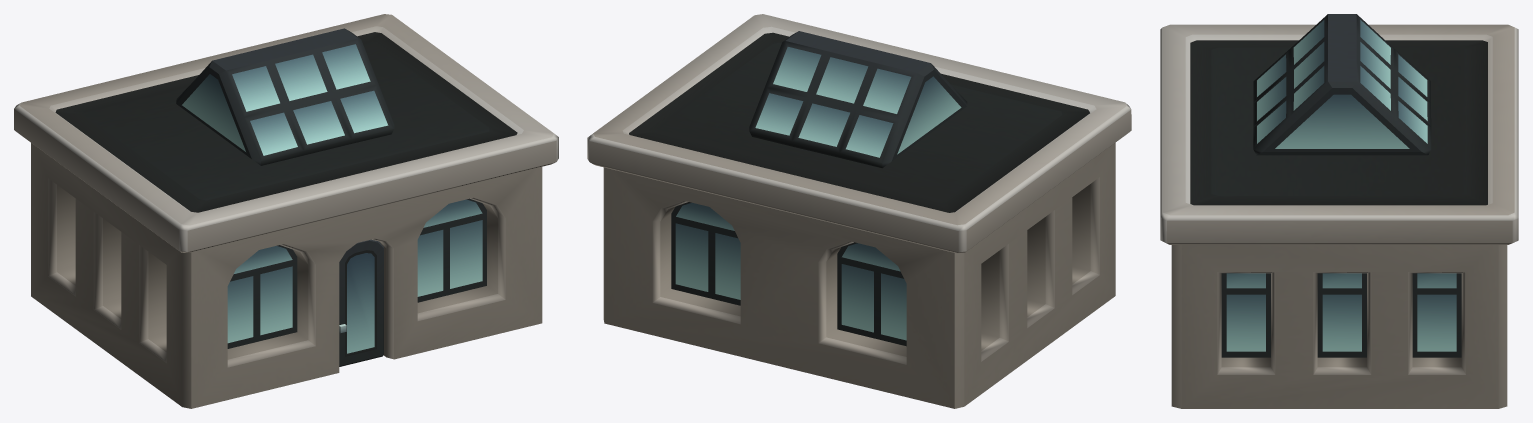
Rendered from office_building_type1_rooftop_floor_cream.fbx.
The picture shows the model from 3 angles, left to right: view 1: azimuth 30°, elevation 25°; view 2: azimuth 150°, elevation 25°; view 3: azimuth 270°, elevation 25°; orthographic projection. The views are drawn at different scales.
Visible parts, largest first — view 1: office_building_type1_rooftop_floor_cream, door_office_building_type1_rooftop_floor_cream; view 2: office_building_type1_rooftop_floor_cream; view 3: office_building_type1_rooftop_floor_cream.
Boxes of the visible parts, left/top/right/bottom form: office_building_type1_rooftop_floor_cream: left=14, top=14, right=558, bottom=408; door_office_building_type1_rooftop_floor_cream: left=339, top=239, right=383, bottom=366; office_building_type1_rooftop_floor_cream: left=587, top=14, right=1131, bottom=408; office_building_type1_rooftop_floor_cream: left=1160, top=14, right=1518, bottom=408.
Size of the model in its own units: 800 by 520 by 625.
